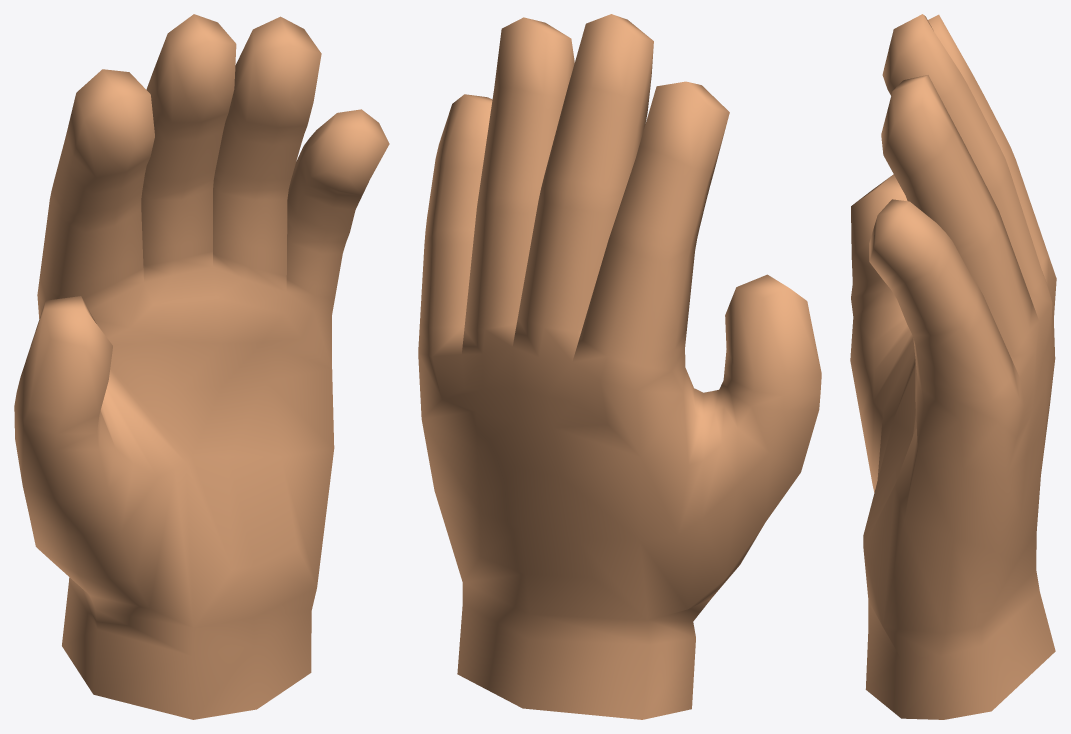
File: Hand.fbx
The picture shows the model from 3 angles, left to right: view 1: azimuth 30°, elevation 25°; view 2: azimuth 150°, elevation 25°; view 3: azimuth 270°, elevation 25°; orthographic projection. The views are drawn at different scales.
Visible parts, largest first — view 1: Hand; view 2: Hand; view 3: Hand.
Boxes of the visible parts, box(x1,y1,x2,y2) form: Hand: box(14, 14, 389, 719); Hand: box(418, 14, 821, 719); Hand: box(850, 14, 1056, 719).
Size of the model in its own units: 159 by 286 by 80.95.
